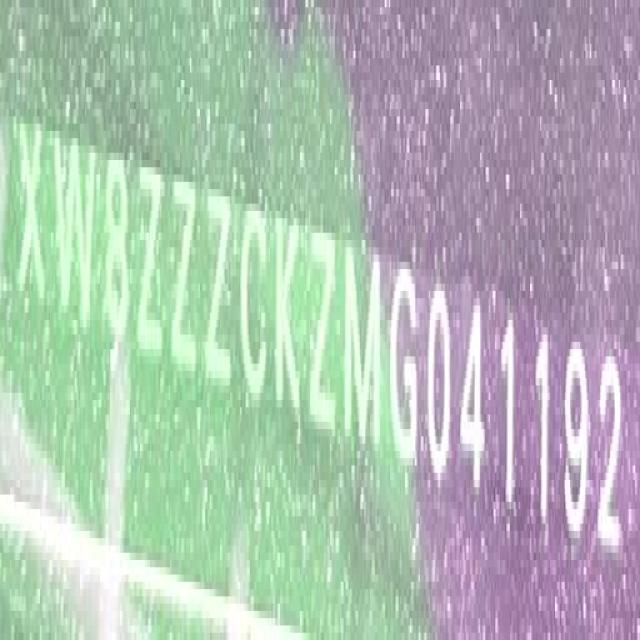0: (426, 273, 454, 487)
1: (500, 302, 518, 528), (534, 318, 551, 537)
2: (599, 352, 625, 558)
4: (461, 285, 486, 505)
8: (105, 146, 131, 348)
9: (562, 337, 590, 543)
C: (240, 194, 270, 406)
G: (387, 256, 420, 463)
K: (274, 210, 302, 428)
M: (345, 230, 385, 460)
W: (54, 126, 100, 337)
X: (17, 109, 46, 316)
Z: (308, 220, 338, 440), (172, 168, 200, 381), (138, 160, 165, 366), (206, 179, 232, 391)
